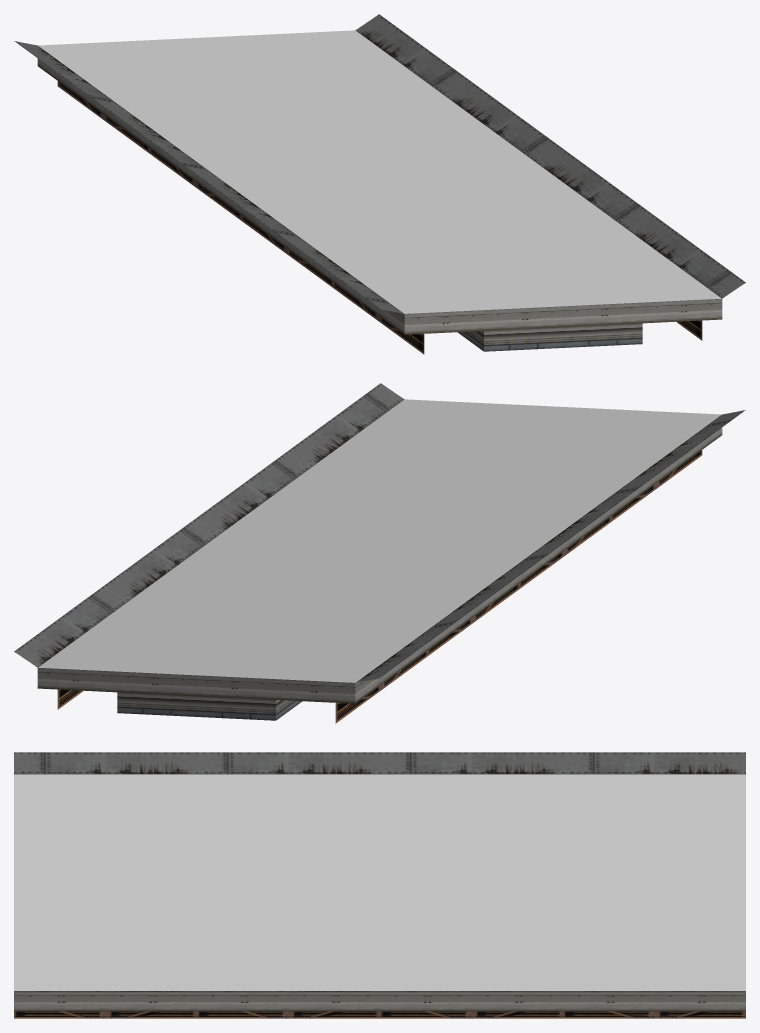
Rendered from StrBanked.fbx.
The picture shows the model from 3 angles, top to bottom: view 1: azimuth 30°, elevation 25°; view 2: azimuth 150°, elevation 25°; view 3: azimuth 270°, elevation 25°; orthographic projection.
Parts seen in each view (by area): view 1: Empty_Mesh; view 2: Empty_Mesh; view 3: Empty_Mesh.
Part boxes in pixels (x1,y1,x2,y2): Empty_Mesh: [14, 14, 745, 354]; Empty_Mesh: [14, 383, 745, 723]; Empty_Mesh: [14, 752, 745, 1018].
Size of the model in its own units: 18.4 by 5.3 by 32.
